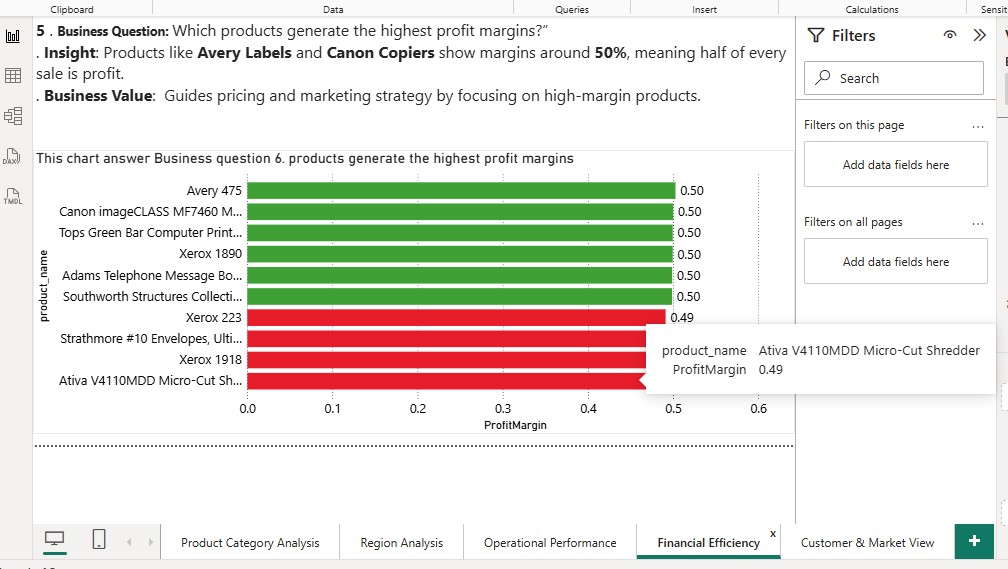

This screenshot's page, from the dashboard's own definition file:
{"tool":"powerbi","page":{"name":"Financial Efficiency","canvas":[1280,720],"ordinal":3},"visuals":[{"type":"barChart","title":"This chart answer Business question 6. products generate the highest profit margins","fields":{"Category":["Products.product_name"],"Y":["OrderDetails.ProfitMargin"]},"box":[0,225.1,1280,477.1],"z":0},{"type":"textbox","box":[0,0,1280,225.1],"z":1000}]}

Visuals, with their boxes on the page's 1280x720 design canvas (x1, y1, x2, y2). These are canvas units, not pixel positions in the 1008x569 screenshot, which may show the page scaled, cropped or inside an application window:
"This chart answer Business question 6. products generate the highest profit margins" barChart: detection(0, 225, 1280, 702)
textbox: detection(0, 0, 1280, 225)
